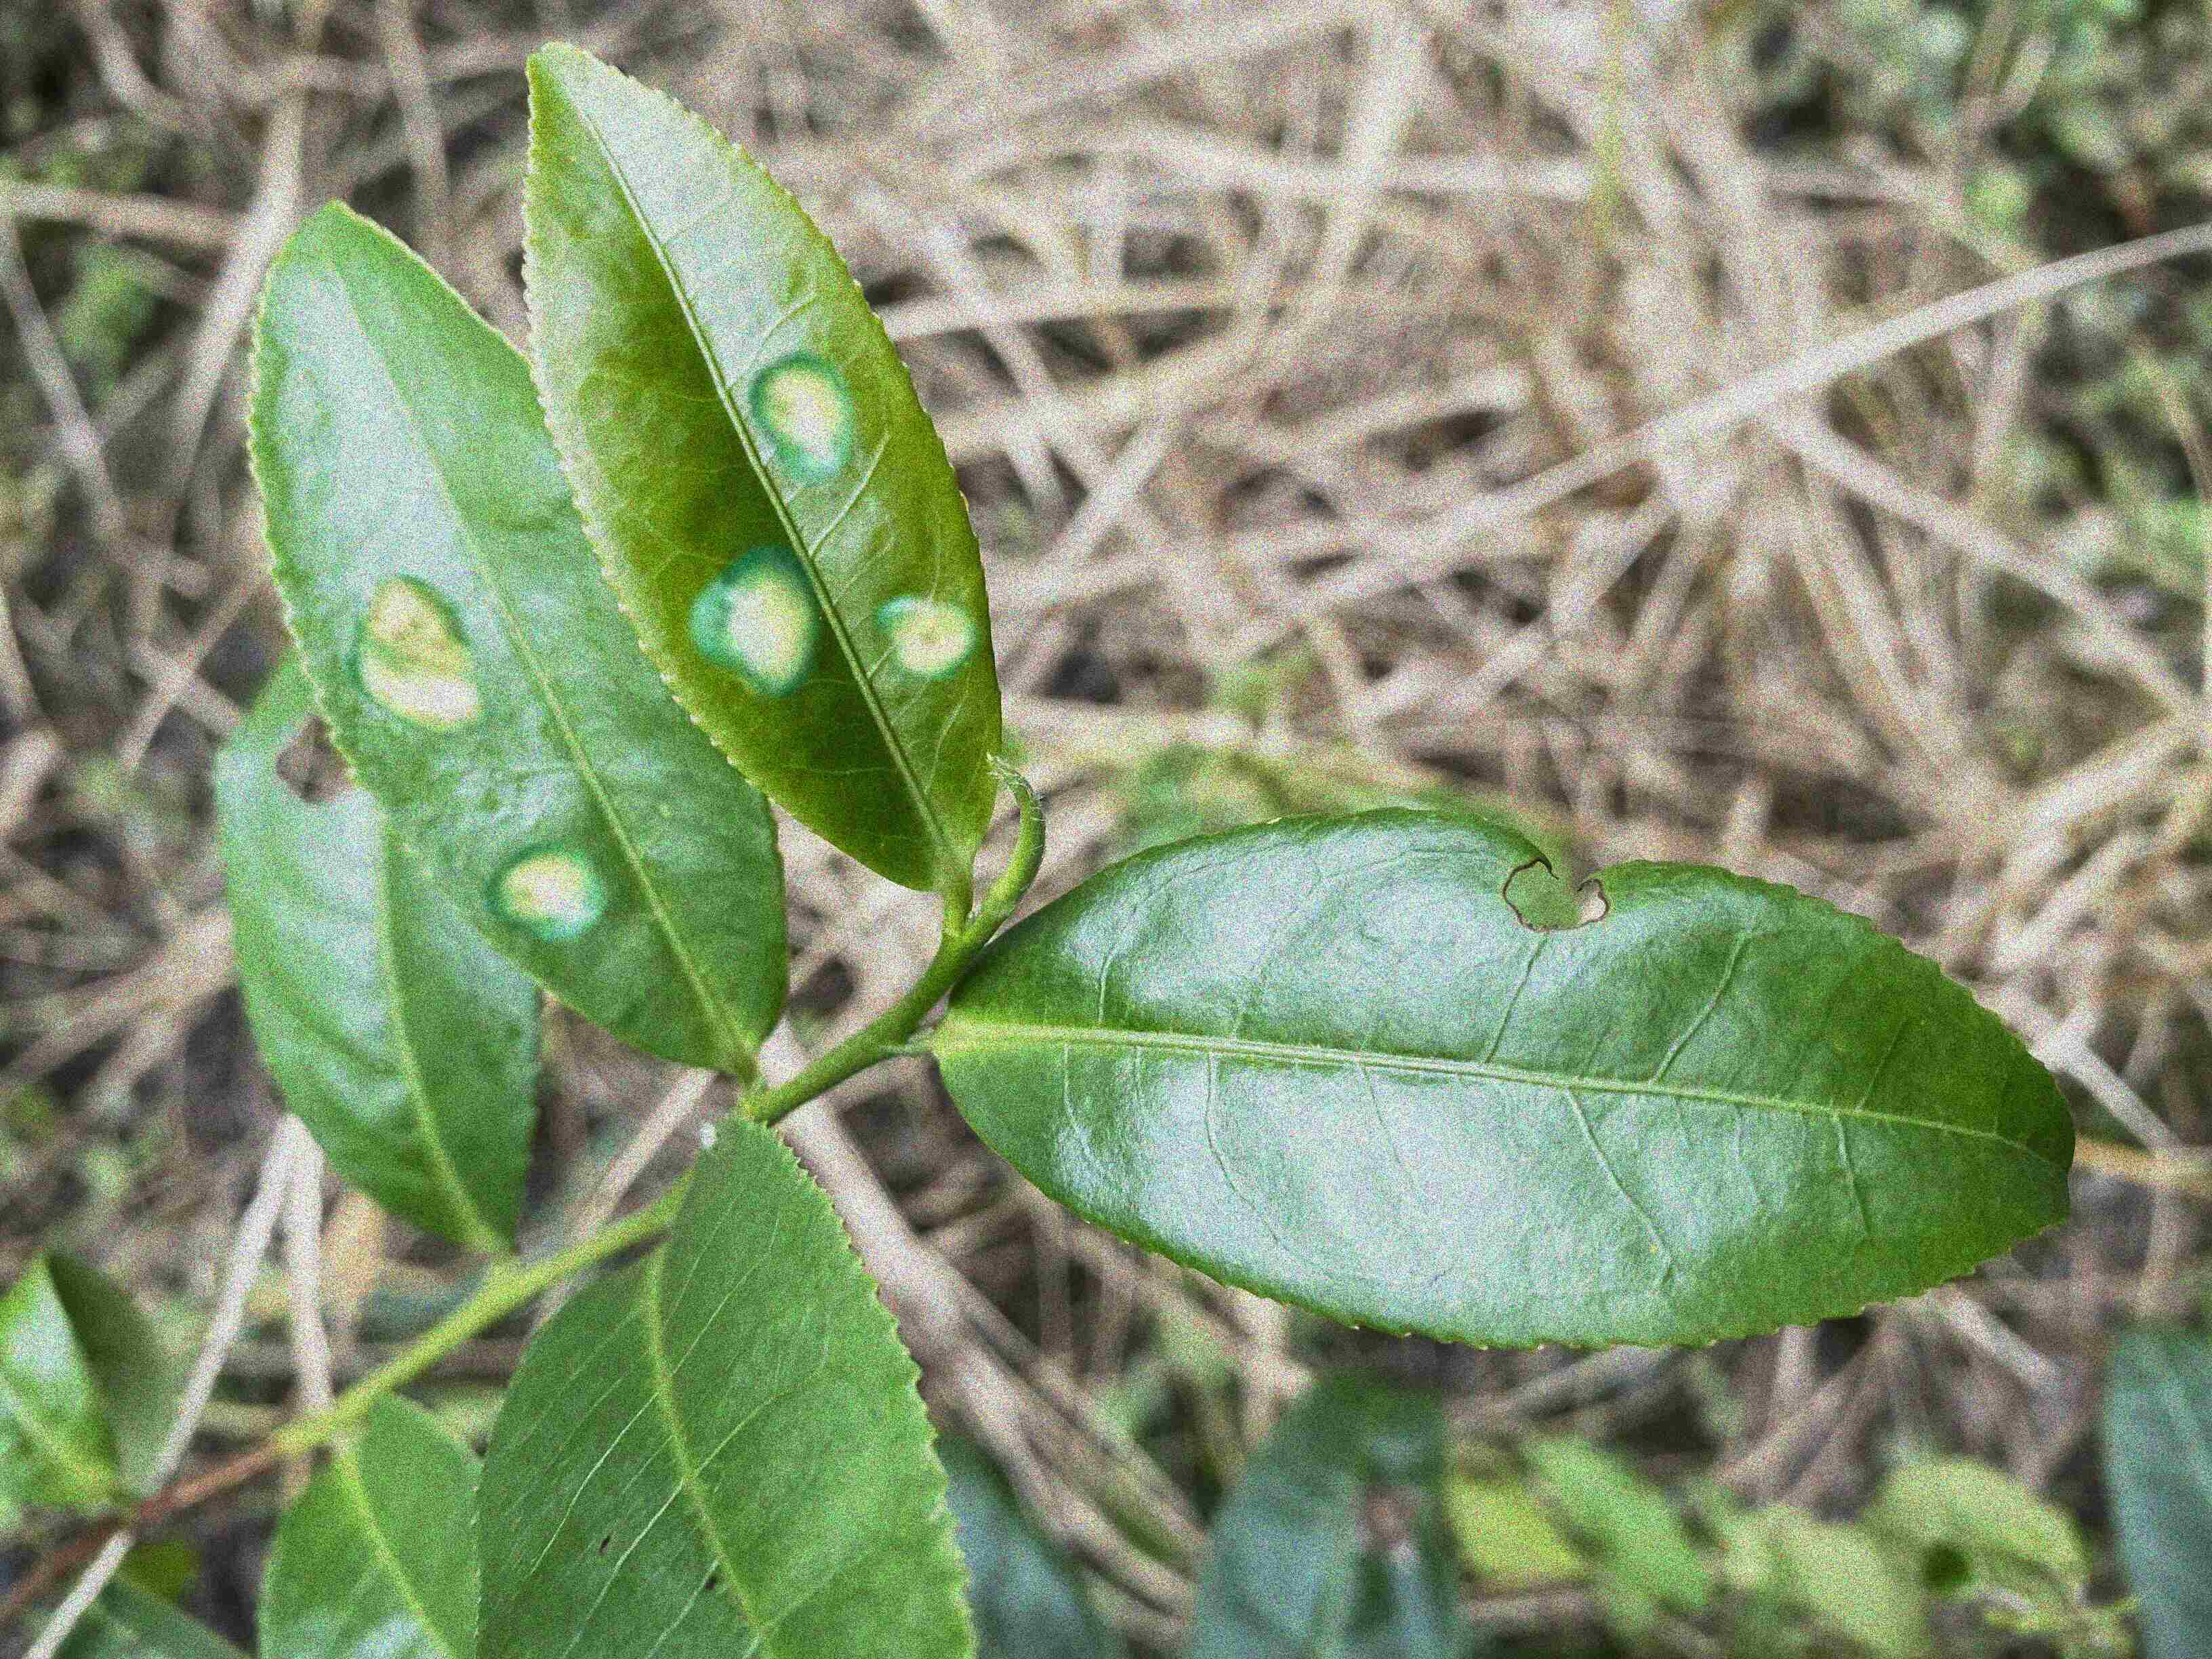chabing_high: (244, 200, 791, 1077), (519, 37, 1005, 897)
chihuo_low: (934, 807, 2081, 1352)
